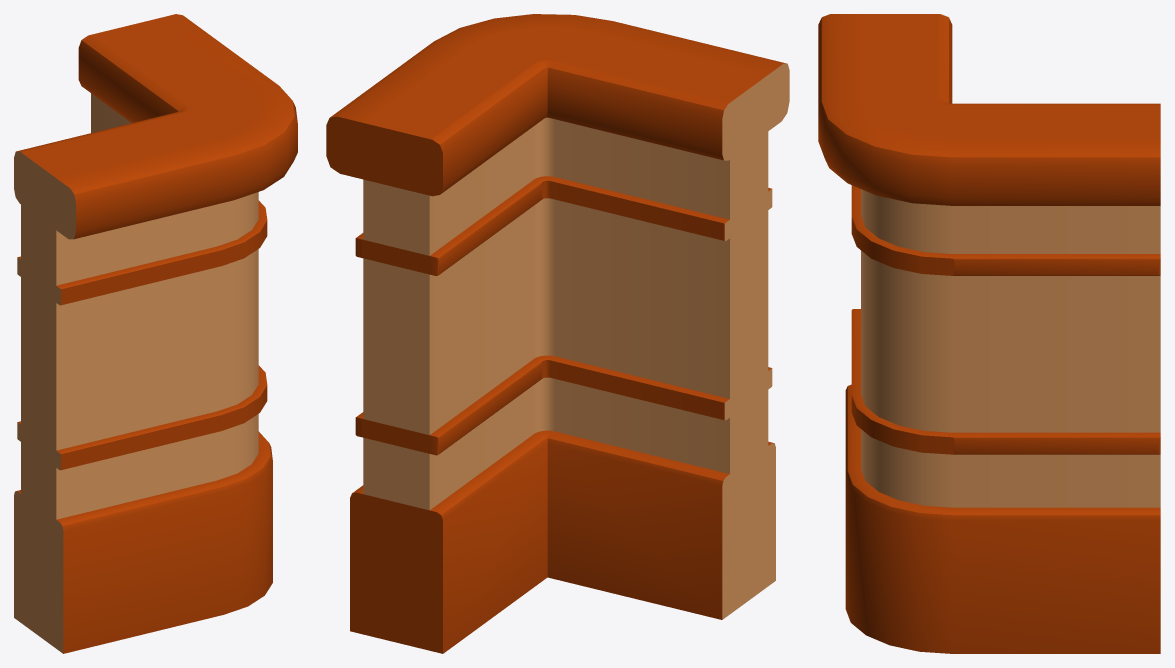
Rendered from New_MiniCornerWalls.fbx.
The picture shows the model from 3 angles, left to right: view 1: azimuth 30°, elevation 25°; view 2: azimuth 150°, elevation 25°; view 3: azimuth 270°, elevation 25°; orthographic projection. The views are drawn at different scales.
Visible parts, largest first — view 1: Corner; view 2: Corner; view 3: Corner.
Boxes of the visible parts, box(x1,y1,x2,y2) form: Corner: box(14, 14, 297, 653); Corner: box(326, 14, 789, 653); Corner: box(818, 14, 1160, 653).
Bounding box in the file's own units: 159 × 266 × 162.
Materials: 1 (1 with a texture image).
